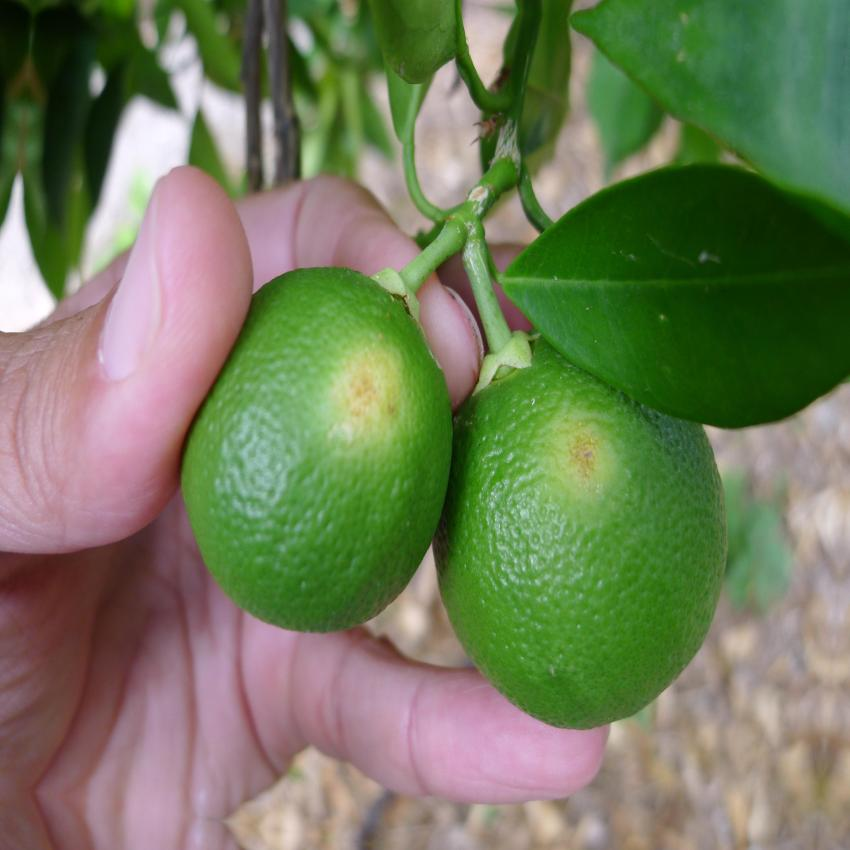Mal estado: (171, 243, 478, 707), (428, 323, 741, 743)
